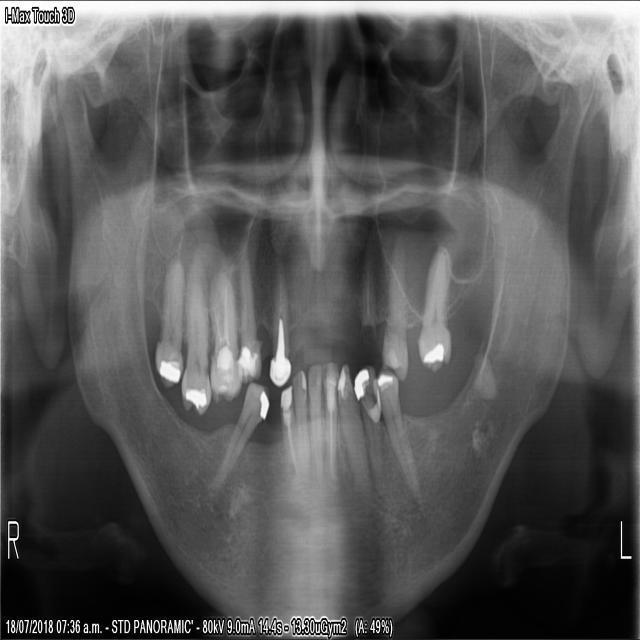LID: (336, 357, 367, 486), (323, 357, 339, 485)
LMU: (413, 238, 451, 370)
LPMD: (375, 365, 415, 487), (352, 361, 379, 422)
LPMU: (379, 239, 408, 379), (353, 247, 377, 343)
RCD: (278, 385, 294, 480)
RCU: (267, 260, 291, 387)
RID: (305, 359, 325, 482), (293, 362, 309, 482)
RMU: (179, 250, 213, 417), (207, 258, 241, 405), (151, 247, 183, 390)
RPMD: (211, 377, 267, 488)
RPMU: (233, 266, 262, 385)
